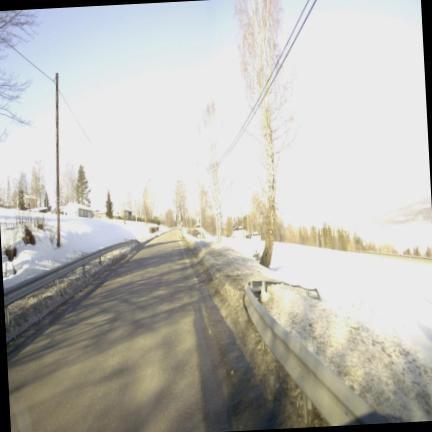Road: (7, 230, 230, 431)
